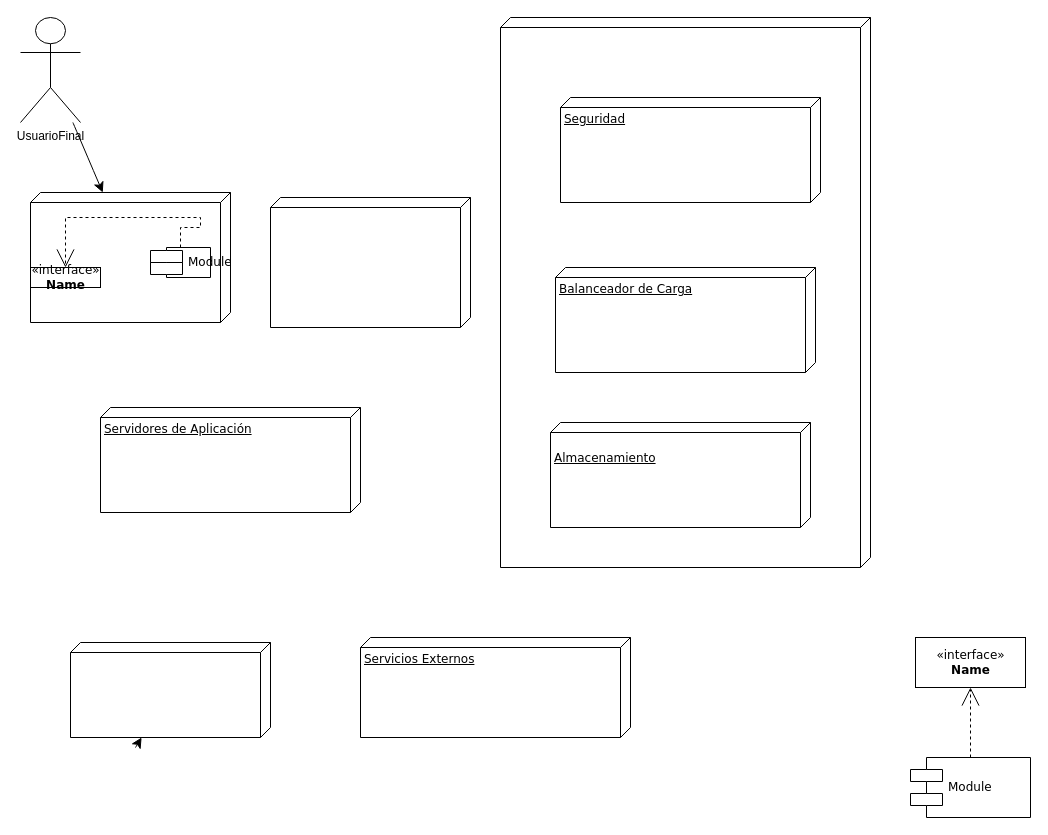
This 1048x835 diagram has some shape labels left out. The box of each missing label's shape, as (x1, y1, x2, y2) in pixels:
Aplicación Móvil: (270, 196, 470, 328)
Aplicación Web: (30, 192, 230, 322)
Base de Datos: (70, 642, 270, 738)
Infraestructura en la Nube: (500, 16, 870, 568)
